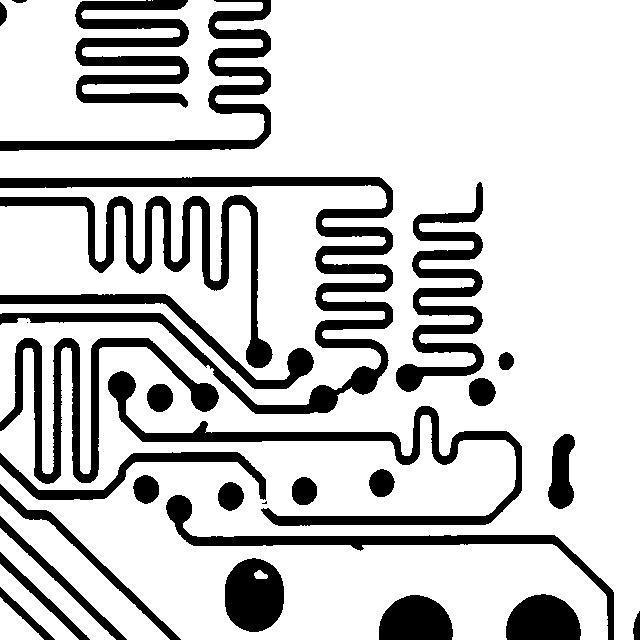mousebite: (193, 355, 223, 384), (7, 308, 40, 333)
open: (242, 489, 277, 518)
pin-hole: (244, 560, 277, 588)
short: (318, 368, 369, 408)
spur: (183, 411, 217, 447), (337, 531, 373, 560)
